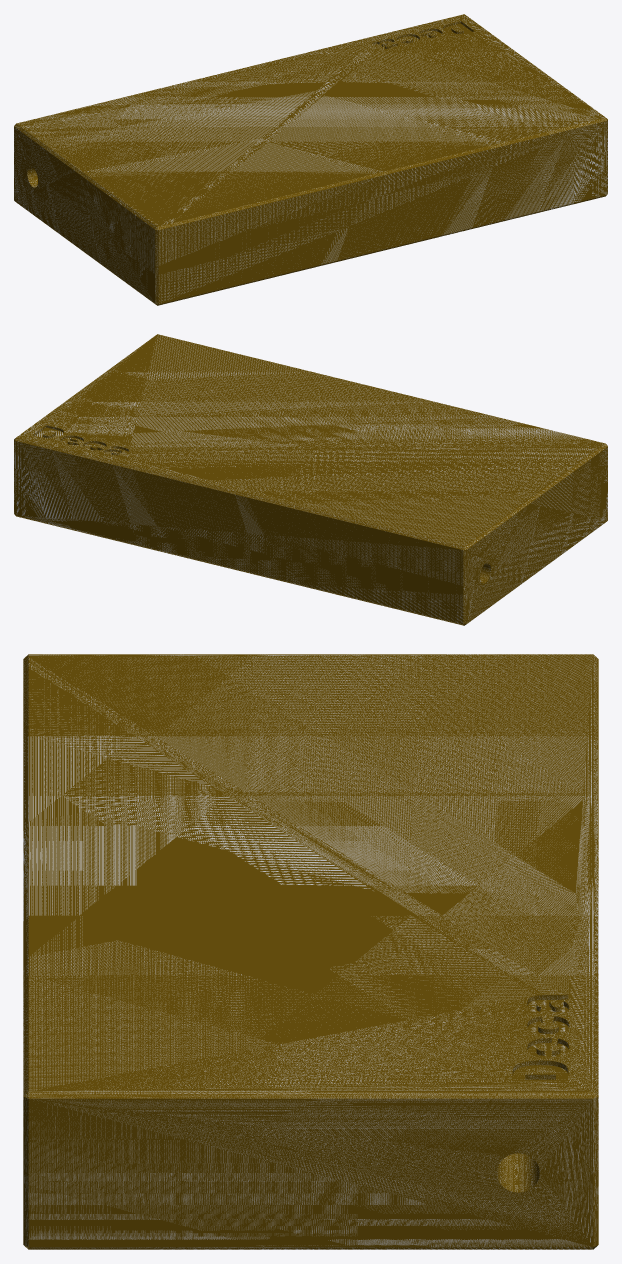
File: original-3.obj
3 renders of one model, top to bottom at view 1: azimuth 30°, elevation 25°; view 2: azimuth 150°, elevation 25°; view 3: azimuth 270°, elevation 25°, orthographic. The views are drawn at different scales.
Parts seen in each view (by area): view 1: Component_13_1/Component_13/mesh3/mesh3-geometry#mesh3-geometry; view 2: Component_13_1/Component_13/mesh3/mesh3-geometry#mesh3-geometry; view 3: Component_13_1/Component_13/mesh3/mesh3-geometry#mesh3-geometry.
Part boxes in pixels (<box>): Component_13_1/Component_13/mesh3/mesh3-geometry#mesh3-geometry: <box>14,14,607,305</box>; Component_13_1/Component_13/mesh3/mesh3-geometry#mesh3-geometry: <box>14,334,607,625</box>; Component_13_1/Component_13/mesh3/mesh3-geometry#mesh3-geometry: <box>23,654,598,1249</box>.
Size of the model in its own units: 0.3357 by 0.056 by 0.1846.
